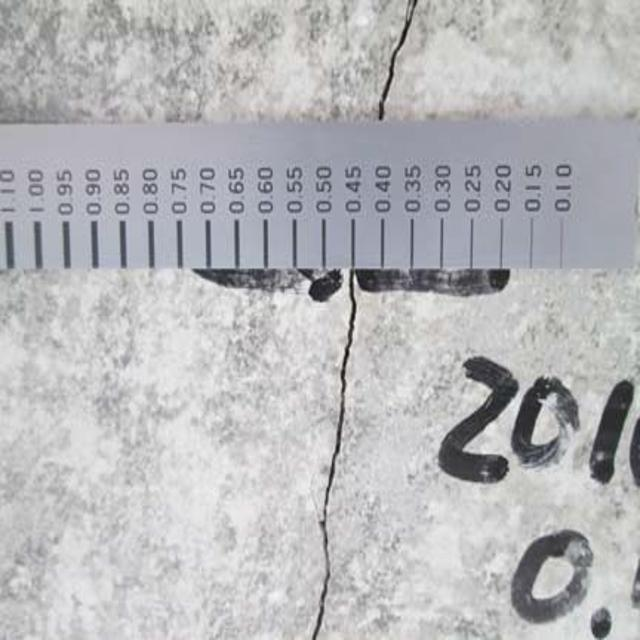crack: (290, 270, 374, 640), (355, 0, 435, 134)
